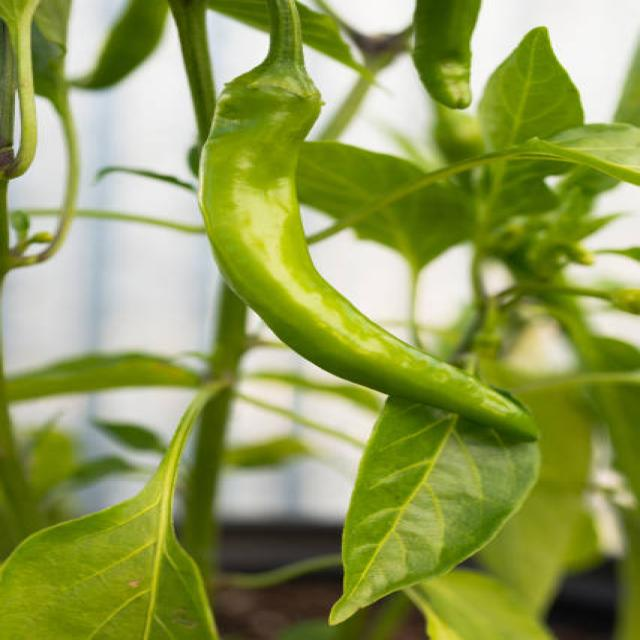Unripe: (199, 92, 535, 439)
